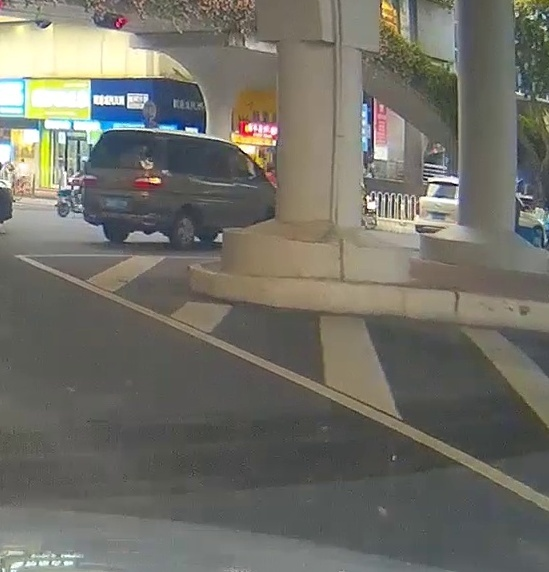L_light: (81, 175, 97, 187)
R_light: (133, 176, 163, 189)
T_light: (121, 131, 137, 135)
night-right: (80, 128, 164, 251)
